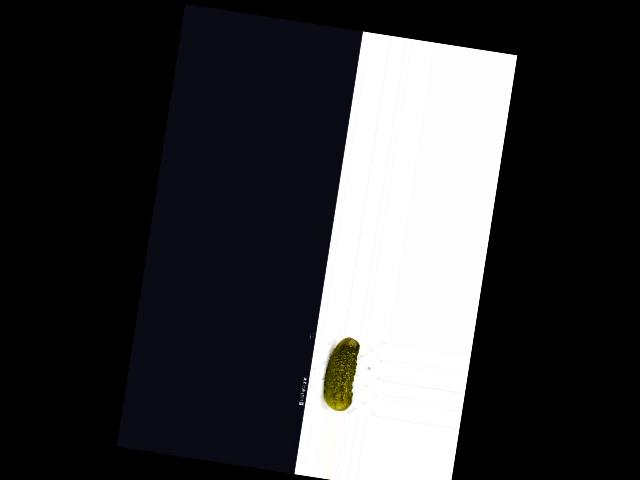cucumber: (320, 333, 361, 412)
